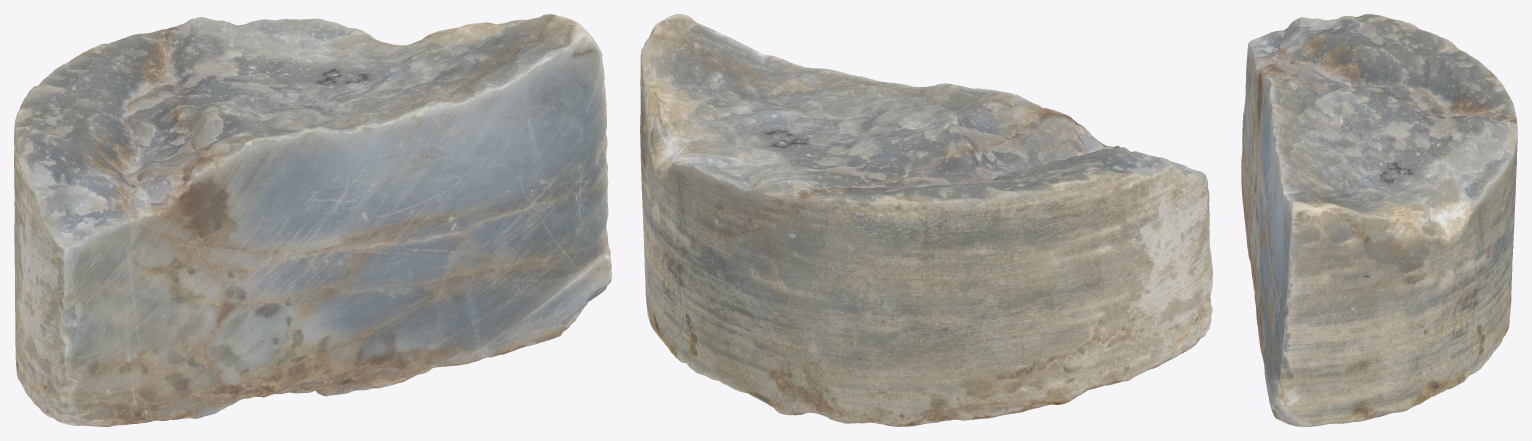
The model's file is angelite.glb.
3 renders of one model, left to right at view 1: azimuth 30°, elevation 25°; view 2: azimuth 150°, elevation 25°; view 3: azimuth 270°, elevation 25°, orthographic. The views are drawn at different scales.
Parts seen in each view (by area): view 1: Model_material0_0; view 2: Model_material0_0; view 3: Model_material0_0.
Boxes of the visible parts, x1=… form: Model_material0_0: x1=14, y1=14, x2=611, y2=426; Model_material0_0: x1=640, y1=14, x2=1212, y2=426; Model_material0_0: x1=1241, y1=14, x2=1517, y2=426.
Size of the model in its own units: 2.69 by 1.33 by 1.41.
Materials: 1 (1 with a texture image).
